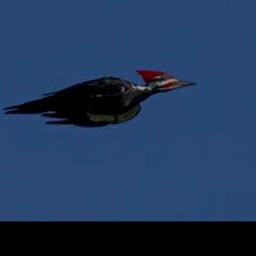Woodpecker: (2, 69, 197, 126)
